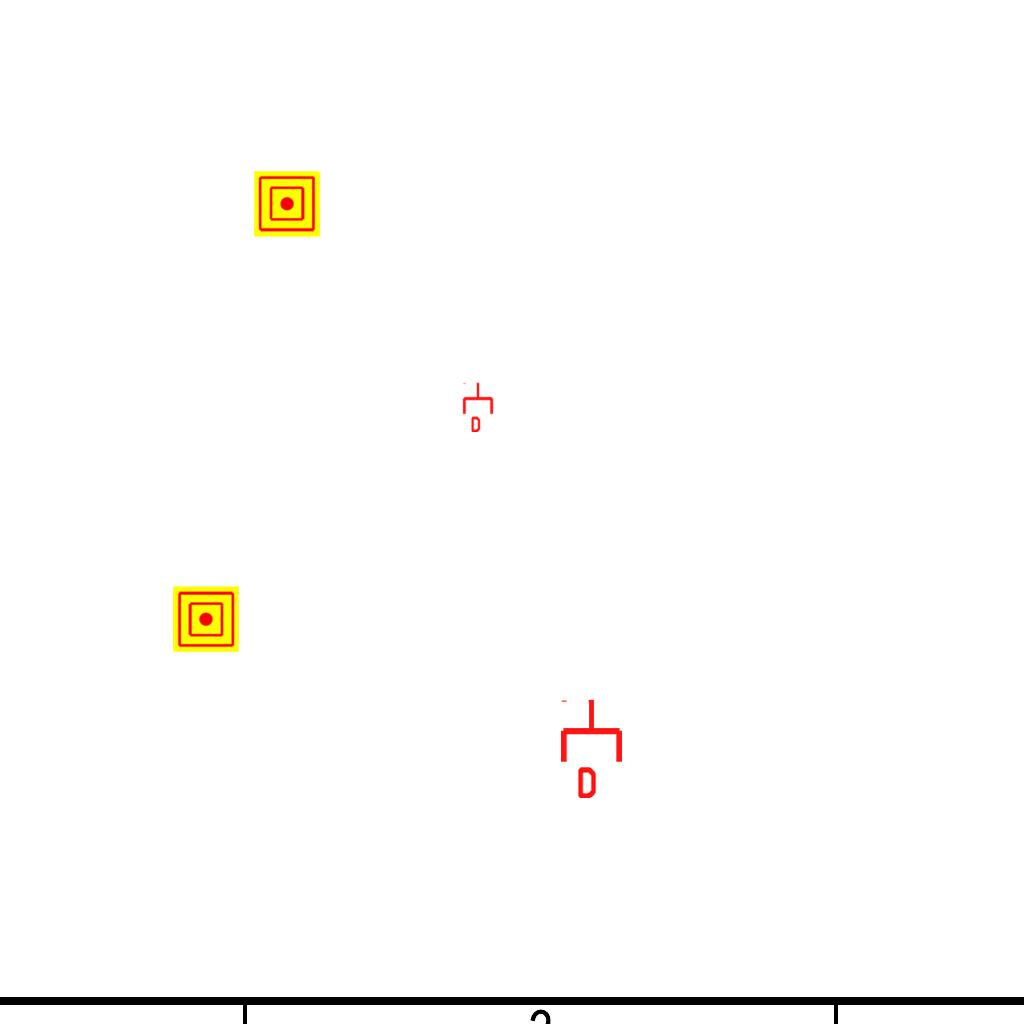Datenanschluss_einfach: (557, 698, 626, 798), (461, 382, 495, 432)
NAM-Nichtautomatischer_Melder: (254, 171, 320, 237), (173, 586, 239, 652)
